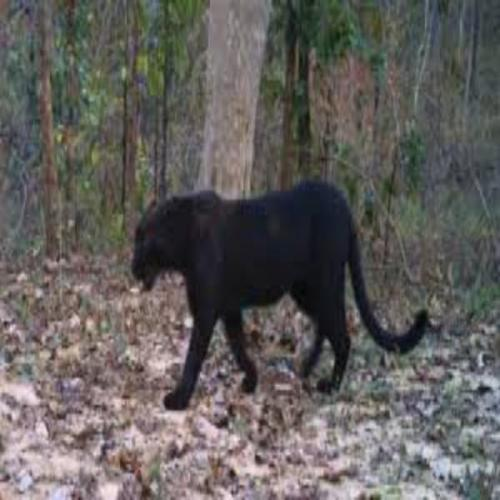panther-endangered: (128, 180, 432, 408)
